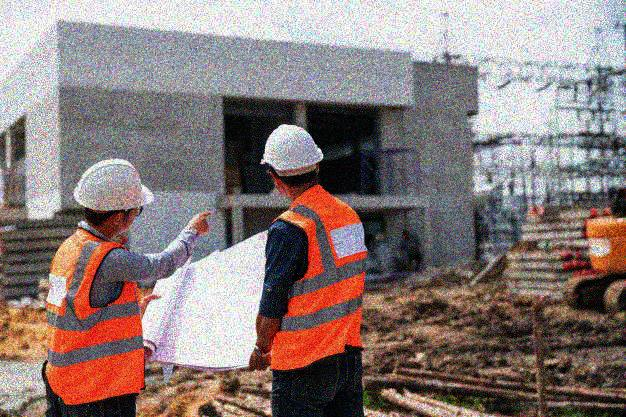helmet: (73, 157, 157, 242), (261, 124, 324, 197)
